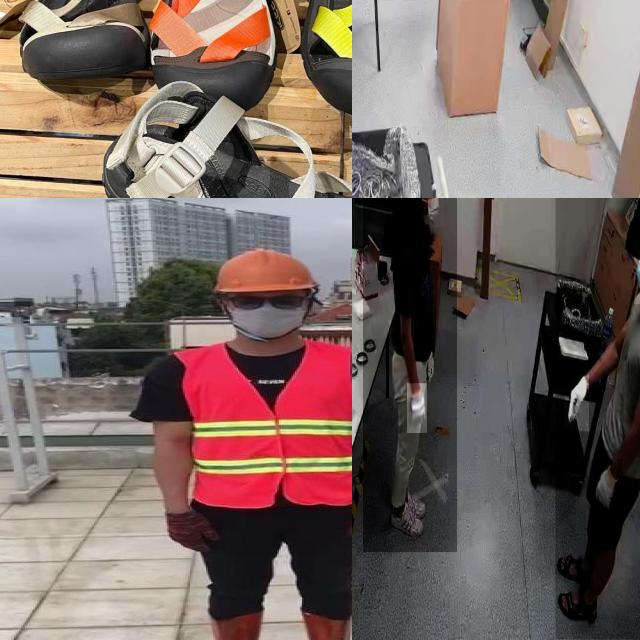Sandals: (75, 84, 352, 198), (129, 0, 306, 119), (0, 0, 152, 101)
boots: (197, 611, 263, 640), (305, 612, 352, 640)
face_mask: (419, 198, 444, 227), (634, 241, 640, 304)
hand_glove: (565, 368, 589, 431), (594, 459, 623, 509), (407, 383, 427, 434)
head_helmet: (210, 246, 318, 294)
person: (132, 248, 352, 640), (555, 198, 640, 640), (362, 198, 457, 553)
shoes: (390, 499, 424, 537), (394, 485, 428, 521)
vest: (179, 340, 352, 508)
